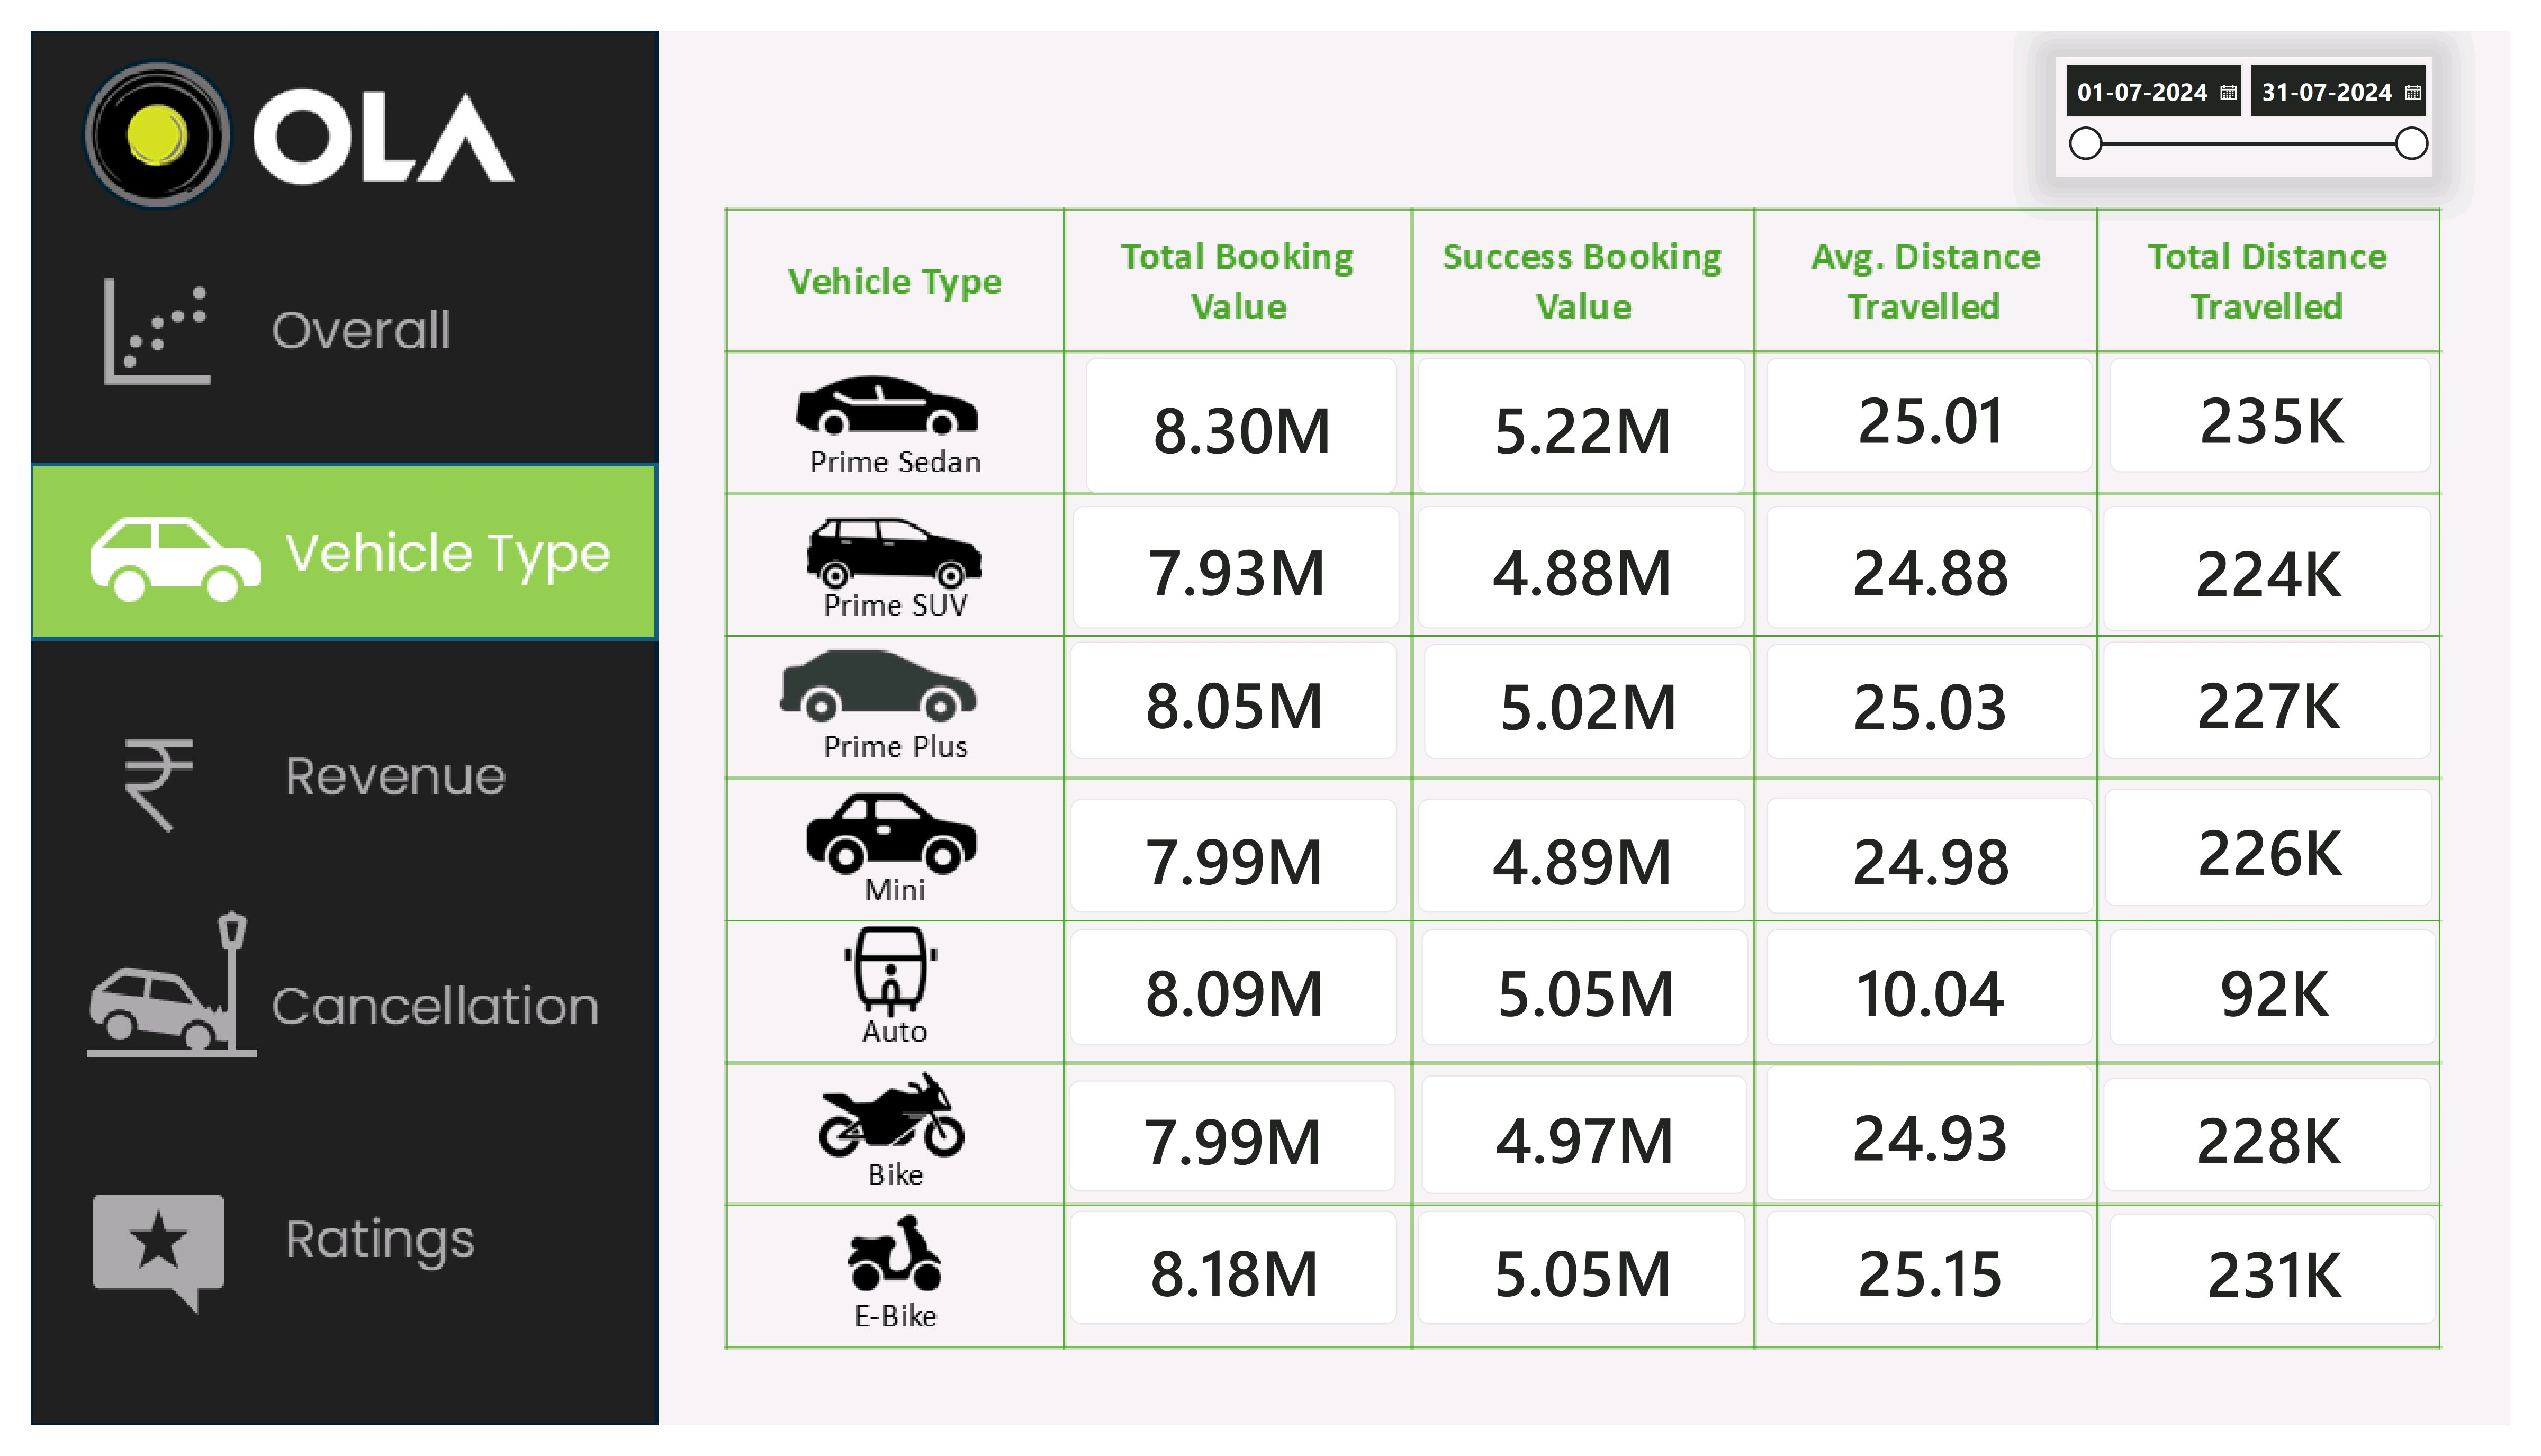

The dashboard page shown, as its layout file describes it:
{"tool":"powerbi","page":{"name":"Vehicle Type]","canvas":[1920,1080],"ordinal":1},"visuals":[{"type":"actionButton","box":[0,173.9,487,128.3],"z":0},{"type":"actionButton","box":[0,515.2,487,128.3],"z":1000},{"type":"actionButton","box":[0,673.9,487,128.3],"z":2000},{"type":"actionButton","box":[0,873.9,487,128.3],"z":3000},{"type":"cardVisual","fields":{"Data":["Sum(Bookings.Booking_Value)"]},"box":[817.2,253.2,240.8,105],"z":4000},{"type":"cardVisual","fields":{"Data":["Sum(Bookings.Booking_Value)"]},"box":[804.8,473.4,253.2,90.6],"z":5000},{"type":"cardVisual","fields":{"Data":["Sum(Bookings.Booking_Value)"]},"box":[804.8,594.9,253.2,88.5],"z":6000},{"type":"cardVisual","fields":{"Data":["Sum(Bookings.Booking_Value)"]},"box":[804.8,695.7,253.2,90.6],"z":7000},{"type":"cardVisual","fields":{"Data":["Sum(Bookings.Booking_Value)"]},"box":[804.3,812.9,253.2,86.4],"z":8000},{"type":"cardVisual","fields":{"Data":["Sum(Bookings.Booking_Value)"]},"box":[804.8,913.9,253.2,88.5],"z":9000},{"type":"cardVisual","fields":{"Data":["Sum(Bookings.Booking_Value)"]},"box":[806.9,368.4,253.2,94.7],"z":10000},{"type":"cardVisual","fields":{"Data":["Sum(Bookings.Booking_Value)"]},"box":[1074.4,253.2,253.2,105],"z":11000},{"type":"cardVisual","fields":{"Data":["Sum(Bookings.Booking_Value)"]},"box":[1074.4,368.4,253.2,94.7],"z":12000},{"type":"cardVisual","fields":{"Data":["Sum(Bookings.Booking_Value)"]},"box":[1078.6,475.5,253.2,88.5],"z":13000},{"type":"cardVisual","fields":{"Data":["Sum(Bookings.Booking_Value)"]},"box":[1074.4,594.9,253.2,88.5],"z":14000},{"type":"cardVisual","fields":{"Data":["Sum(Bookings.Booking_Value)"]},"box":[1076.5,695.7,253.2,90.6],"z":15000},{"type":"cardVisual","fields":{"Data":["Sum(Bookings.Booking_Value)"]},"box":[1077.4,808.6,251.6,92.5],"z":16000},{"type":"cardVisual","fields":{"Data":["Sum(Bookings.Booking_Value)"]},"box":[1074.4,913.9,253.2,88.5],"z":17000},{"type":"cardVisual","fields":{"Data":["Avg(Bookings.Ride_Distance)"]},"box":[1344.1,253.2,253.2,88.5],"z":18000},{"type":"cardVisual","fields":{"Data":["Avg(Bookings.Ride_Distance)"]},"box":[1344.1,368.4,253.2,94.7],"z":19000},{"type":"cardVisual","fields":{"Data":["Avg(Bookings.Ride_Distance)"]},"box":[1344.1,475.5,253.2,88.5],"z":20000},{"type":"cardVisual","fields":{"Data":["Avg(Bookings.Ride_Distance)"]},"box":[1344.1,593.6,253.8,90.3],"z":21000},{"type":"cardVisual","fields":{"Data":["Avg(Bookings.Ride_Distance)"]},"box":[1344.1,695.7,253.2,90.6],"z":22000},{"type":"cardVisual","fields":{"Data":["Avg(Bookings.Ride_Distance)"]},"box":[1344.1,800.7,253.2,105],"z":23000},{"type":"cardVisual","fields":{"Data":["Avg(Bookings.Ride_Distance)"]},"box":[1344.1,913.9,253.2,88.5],"z":24000},{"type":"cardVisual","fields":{"Data":["Sum(Bookings.Ride_Distance)"]},"box":[1609.6,253.2,249.1,88.5],"z":25000},{"type":"cardVisual","fields":{"Data":["Sum(Bookings.Ride_Distance)"]},"box":[1605.5,368.4,253.2,96.7],"z":26000},{"type":"cardVisual","fields":{"Data":["Sum(Bookings.Ride_Distance)"]},"box":[1605.5,473.4,253.2,90.6],"z":27000},{"type":"cardVisual","fields":{"Data":["Sum(Bookings.Ride_Distance)"]},"box":[1606.5,587.1,253.2,90.6],"z":28000},{"type":"cardVisual","fields":{"Data":["Sum(Bookings.Ride_Distance)"]},"box":[1609.6,695.7,253.2,90.6],"z":29000},{"type":"cardVisual","fields":{"Data":["Sum(Bookings.Ride_Distance)"]},"box":[1605.5,811,253.2,88.5],"z":30000},{"type":"cardVisual","fields":{"Data":["Sum(Bookings.Ride_Distance)"]},"box":[1609.6,916,253.2,86.4],"z":31000},{"type":"slicer","title":"DATE","fields":{"Values":["Bookings.Date"]},"box":[1568,20,292.3,92.6],"z":32000}]}

Visuals, with their boxes in screenshot pixels (x1, y1, x2, y2), scaled from the page's 1920x1080 canvas onto the 2541x1456 screenshot:
actionButton: 0/234/645/408
actionButton: 0/694/645/867
actionButton: 0/909/645/1081
actionButton: 0/1178/645/1351
cardVisual - Sum(Bookings.Booking_Value): 1082/341/1400/483
cardVisual - Sum(Bookings.Booking_Value): 1065/638/1400/761
cardVisual - Sum(Bookings.Booking_Value): 1065/802/1400/921
cardVisual - Sum(Bookings.Booking_Value): 1065/938/1400/1060
cardVisual - Sum(Bookings.Booking_Value): 1065/1096/1400/1213
cardVisual - Sum(Bookings.Booking_Value): 1065/1232/1400/1351
cardVisual - Sum(Bookings.Booking_Value): 1068/496/1403/625
cardVisual - Sum(Bookings.Booking_Value): 1422/341/1757/483
cardVisual - Sum(Bookings.Booking_Value): 1422/496/1757/625
cardVisual - Sum(Bookings.Booking_Value): 1427/641/1763/761
cardVisual - Sum(Bookings.Booking_Value): 1422/802/1757/921
cardVisual - Sum(Bookings.Booking_Value): 1425/938/1760/1060
cardVisual - Sum(Bookings.Booking_Value): 1426/1090/1759/1215
cardVisual - Sum(Bookings.Booking_Value): 1422/1232/1757/1351
cardVisual - Avg(Bookings.Ride_Distance): 1779/341/2114/460
cardVisual - Avg(Bookings.Ride_Distance): 1779/496/2114/625
cardVisual - Avg(Bookings.Ride_Distance): 1779/641/2114/761
cardVisual - Avg(Bookings.Ride_Distance): 1779/800/2115/922
cardVisual - Avg(Bookings.Ride_Distance): 1779/938/2114/1060
cardVisual - Avg(Bookings.Ride_Distance): 1779/1080/2114/1221
cardVisual - Avg(Bookings.Ride_Distance): 1779/1232/2114/1351
cardVisual - Sum(Bookings.Ride_Distance): 2130/341/2460/460
cardVisual - Sum(Bookings.Ride_Distance): 2125/496/2460/627
cardVisual - Sum(Bookings.Ride_Distance): 2125/638/2460/761
cardVisual - Sum(Bookings.Ride_Distance): 2126/791/2461/914
cardVisual - Sum(Bookings.Ride_Distance): 2130/938/2465/1060
cardVisual - Sum(Bookings.Ride_Distance): 2125/1093/2460/1213
cardVisual - Sum(Bookings.Ride_Distance): 2130/1235/2465/1351
"DATE" slicer: 2075/27/2462/152
